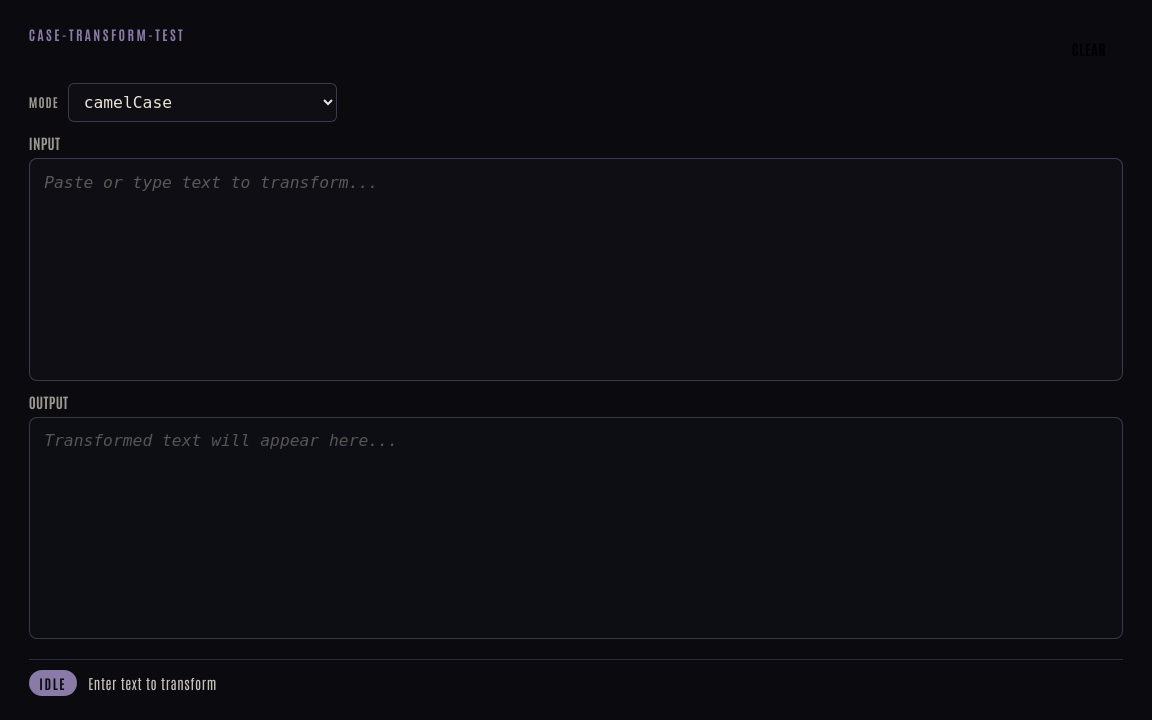
Scenario: CaseTransform › populates output when text is entered
The width and height of the screenshot is (1152, 720).
Step 1. Type "hello_world" into the text box named "Text input for case transformation" → x=576, y=270, box [29, 158, 1123, 381]
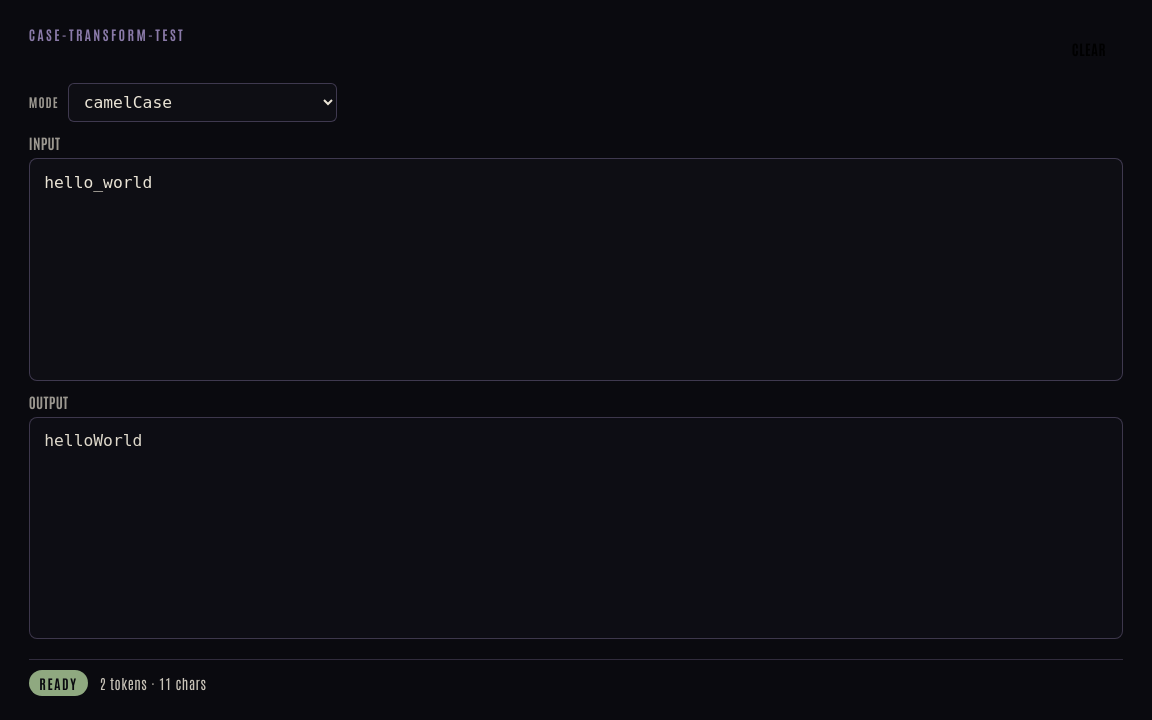
Now the text box named "Case-transformed text output" holds "helloWorld", box [29, 417, 1123, 639]
Now the text "Ready" is shown, box [29, 670, 88, 696]
